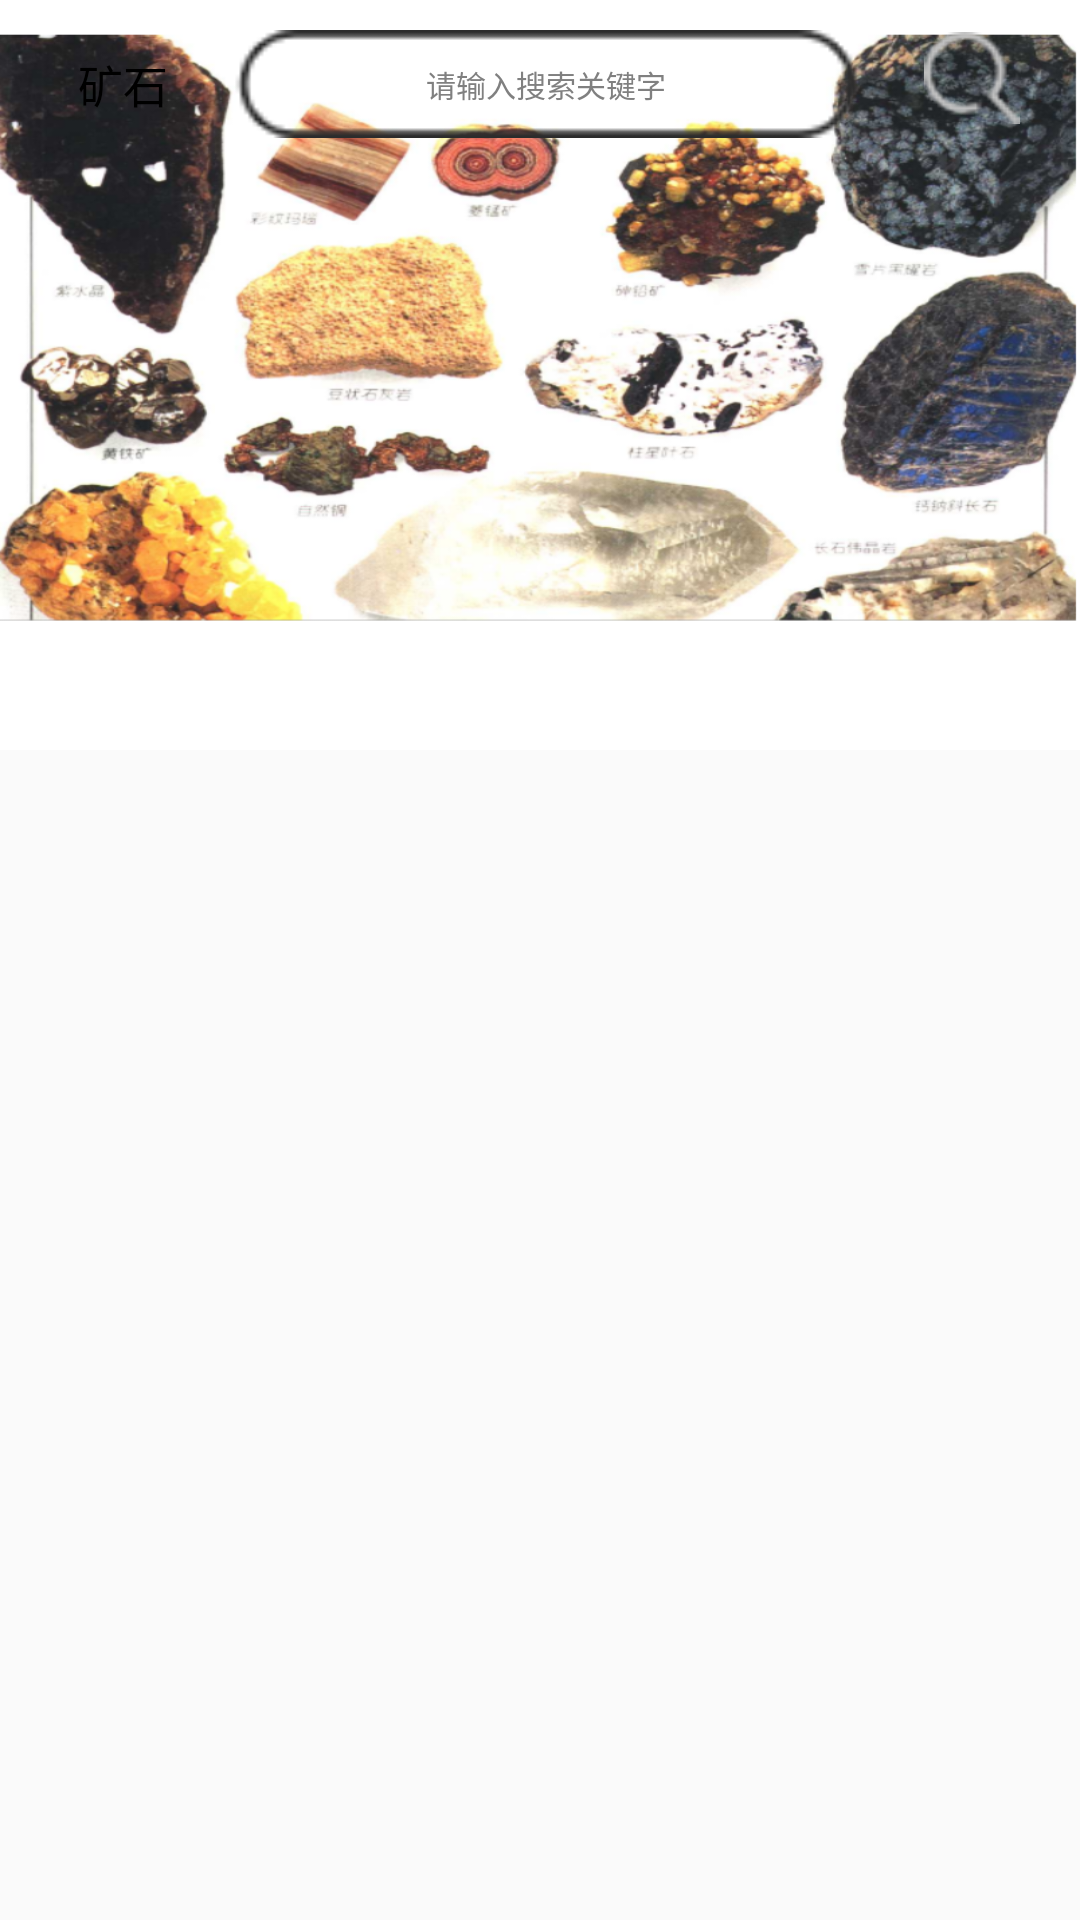

Icon click points for this 1080 x 1920 phone screenshot, format (x,y):
search: (972,78)
